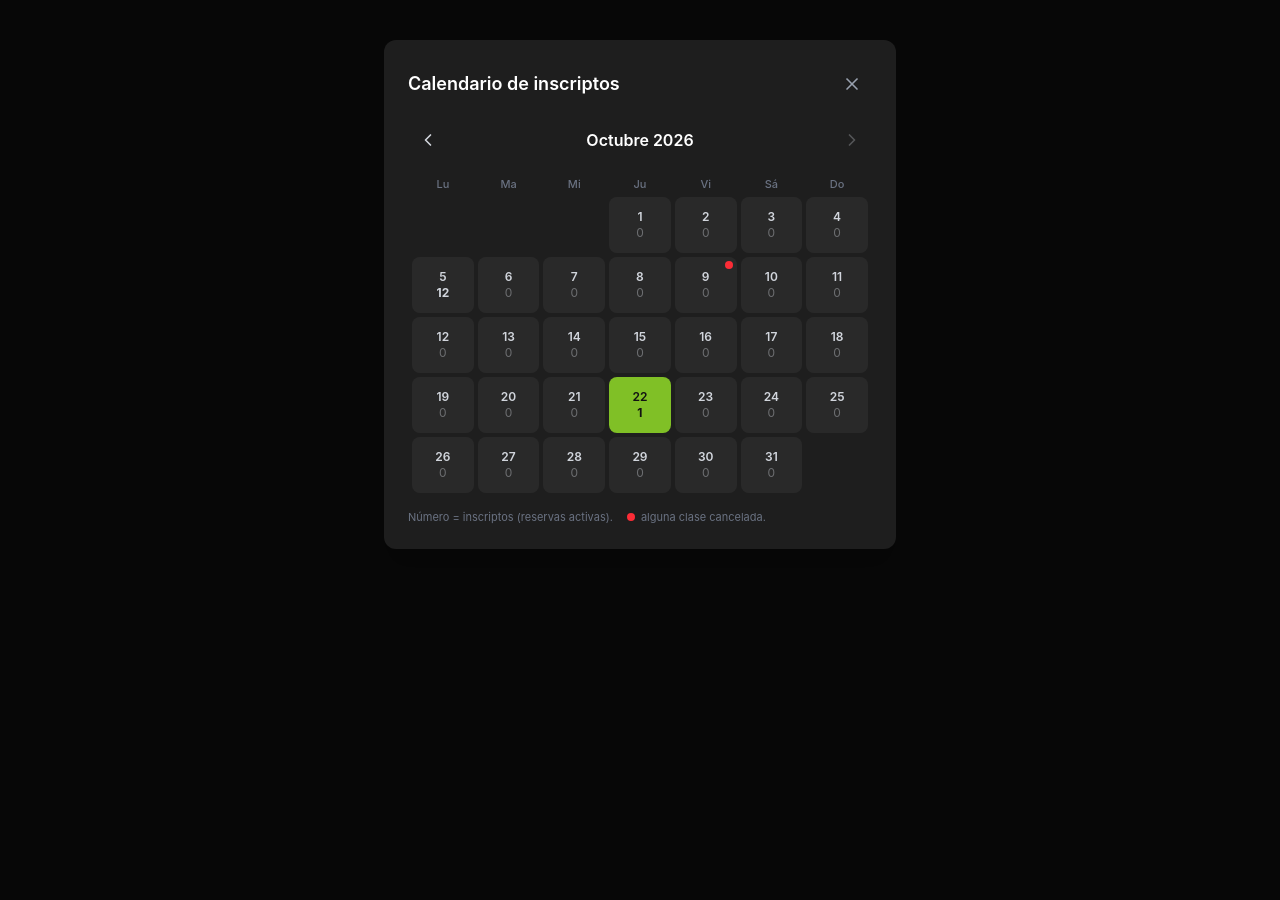
Test: CalendarioClases (Clases > "Ver calendario") › se navega hacia atrás hasta el mes de la primera reserva, y hacia adelante hasta hoy + 6
This screenshot has width=1280, height=900.
Expected: the text "Octubre 2026" is shown, [586, 128, 694, 152]
Expected: the button named "Mes siguiente" is disabled, [832, 120, 872, 160]
What coordinates should you click on to do the following:
click the button named "Mes anterior"
I would click on:
 (428, 140)
Its box is [408, 120, 448, 160].
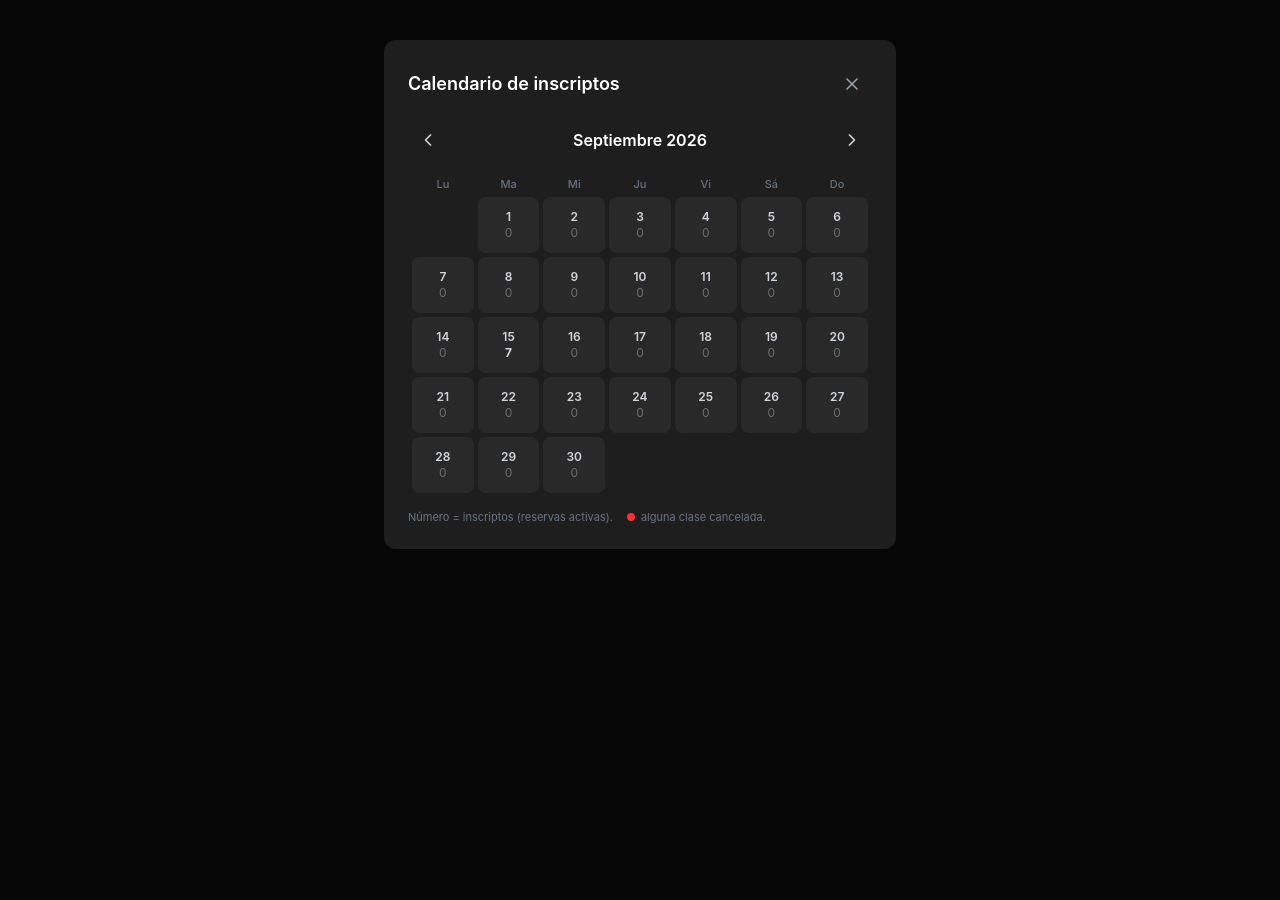
Now the button named "15 de Septiembre 2026: 7 inscriptos" is shown, box [478, 316, 539, 372]
What coordinates should you click on to do the following:
click the button named "Mes anterior"
I would click on:
 (428, 140)
Its box is [408, 120, 448, 160].
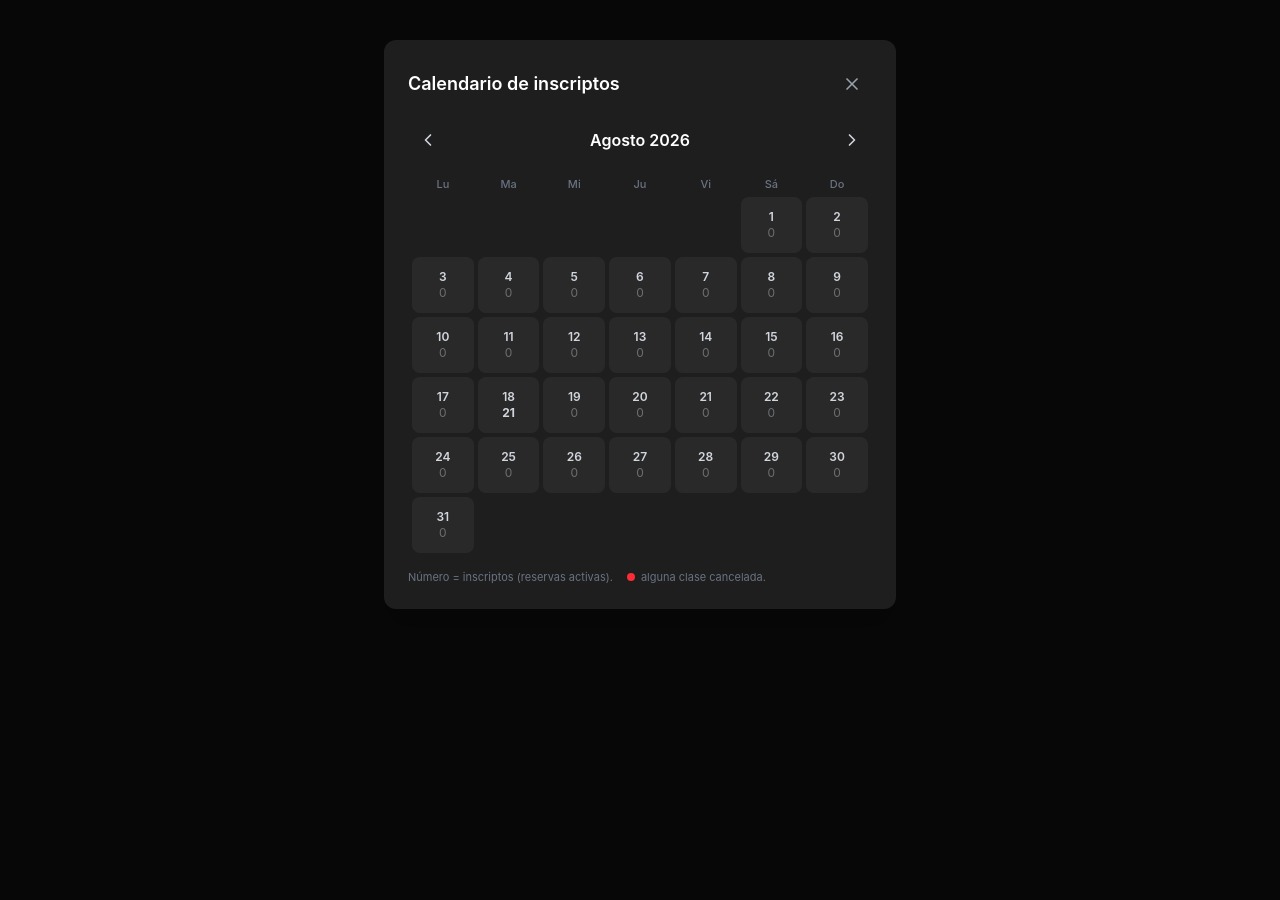
Now the button named "18 de Agosto 2026: 21 inscriptos" is shown, box [478, 376, 539, 432]
What coordinates should you click on to do the following:
click the button named "Mes anterior"
I would click on:
 (428, 140)
Its box is [408, 120, 448, 160].
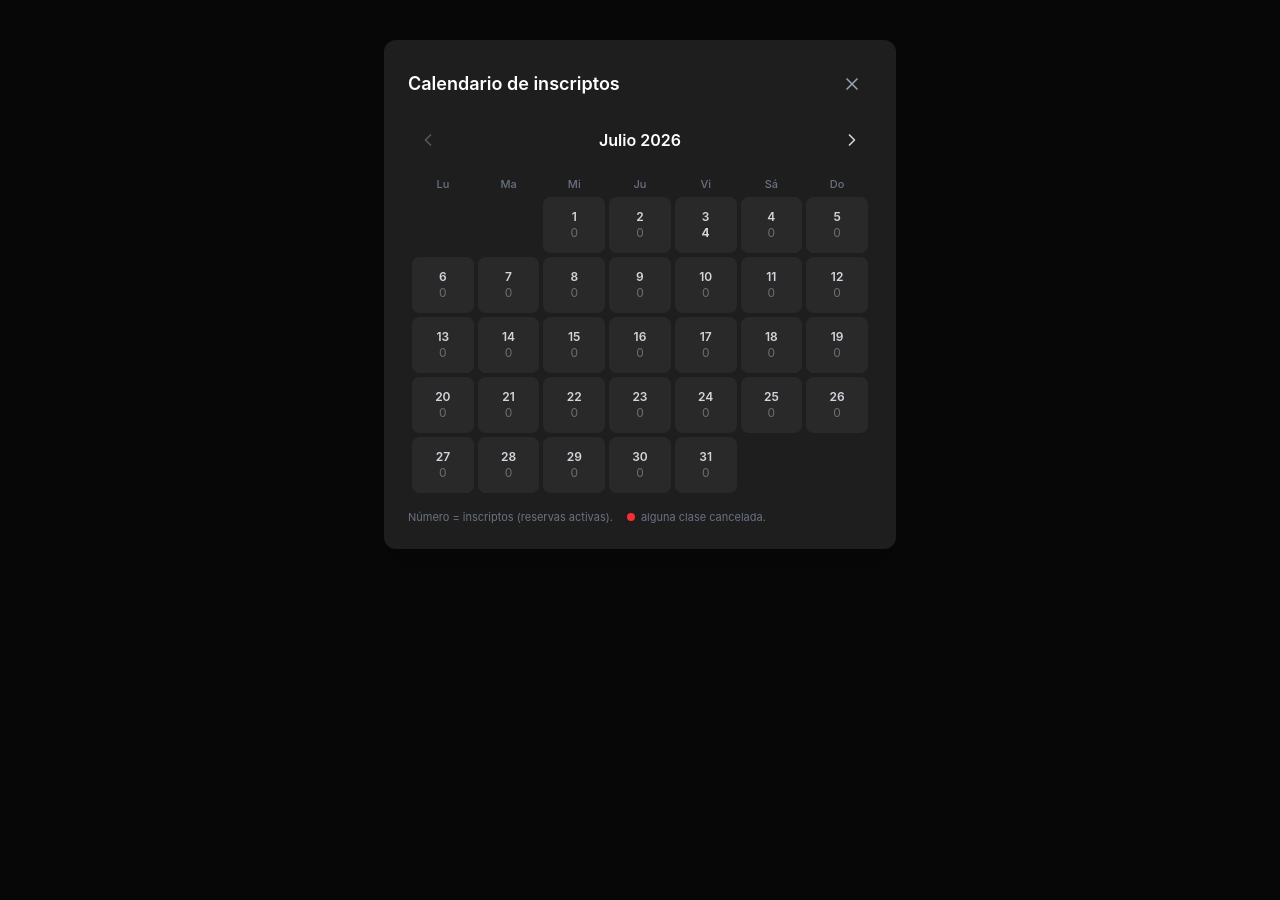
Now the button named "3 de Julio 2026: 4 inscriptos" is shown, box [675, 196, 736, 252]
